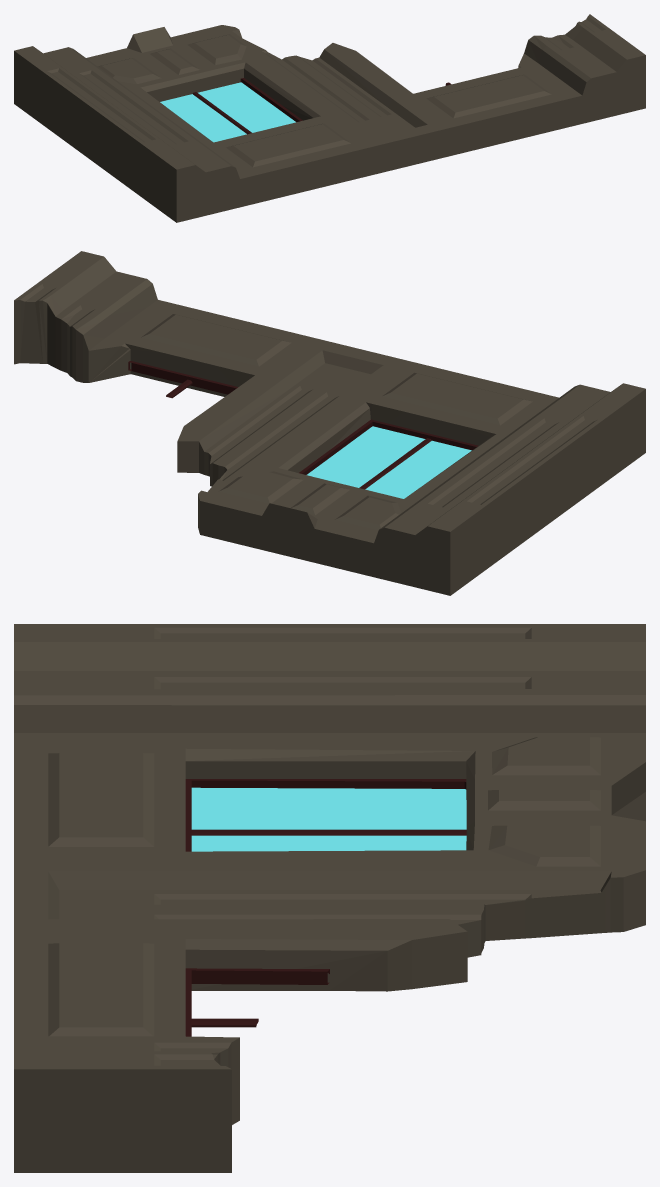
Rendered from FBX_DoubleWCadreSimpleCassé.fbx.
3 renders of one model, top to bottom at view 1: azimuth 30°, elevation 25°; view 2: azimuth 150°, elevation 25°; view 3: azimuth 270°, elevation 25°, orthographic. The views are drawn at different scales.
Visible parts, largest first — view 1: P_F_DoubleWCadreSimple; view 2: P_F_DoubleWCadreSimple; view 3: P_F_DoubleWCadreSimple.
Part boxes in pixels (x1,y1,x2,y2): P_F_DoubleWCadreSimple: (14,14,645,222); P_F_DoubleWCadreSimple: (14,251,645,595); P_F_DoubleWCadreSimple: (14,624,645,1172).
Bounding box in the file's own units: 650 × 70.51 × 390.
